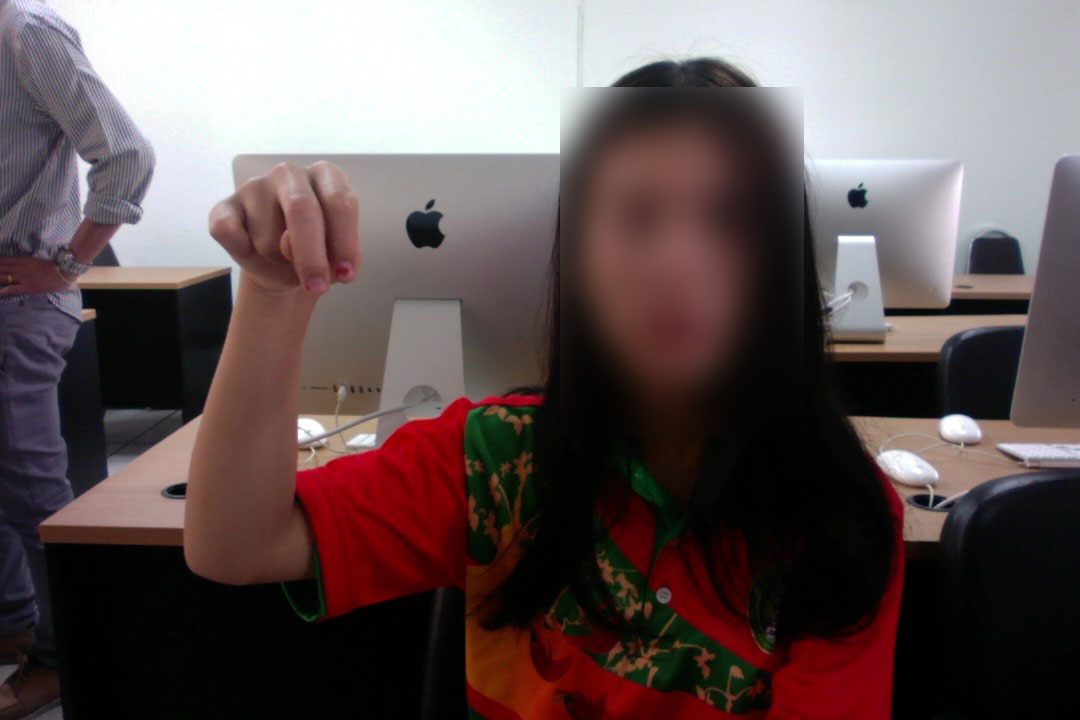nor: (202, 153, 374, 345)
